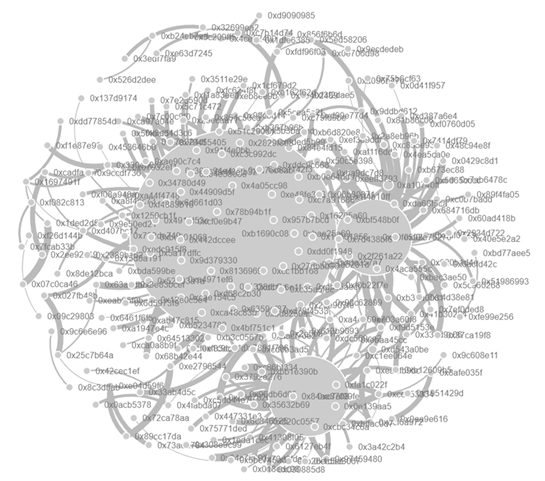

The dashboard page shown, as its layout file describes it:
{"tool":"powerbi","page":{"name":"SocialNetwork","canvas":[1280,720],"ordinal":1},"visuals":[{"type":"ForceGraph1449359463895","fields":{"Source":["CriptoKittiesFromBlock900000.from"],"Target":["CriptoKittiesFromBlock900000.to"],"Weight":["CriptoKittiesFromBlock900000.case:genes"]},"box":[10.1,0,1153,701.7],"z":0}]}

Visuals, with their boxes on the page's 1280x720 design canvas (x1, y1, x2, y2). These are canvas units, not pixel positions in the 545x481 screenshot, which may show the page scaled, cropped or inside an application window:
ForceGraph1449359463895 - CriptoKittiesFromBlock900000.from x CriptoKittiesFromBlock900000.to: crop(10, 0, 1163, 702)
